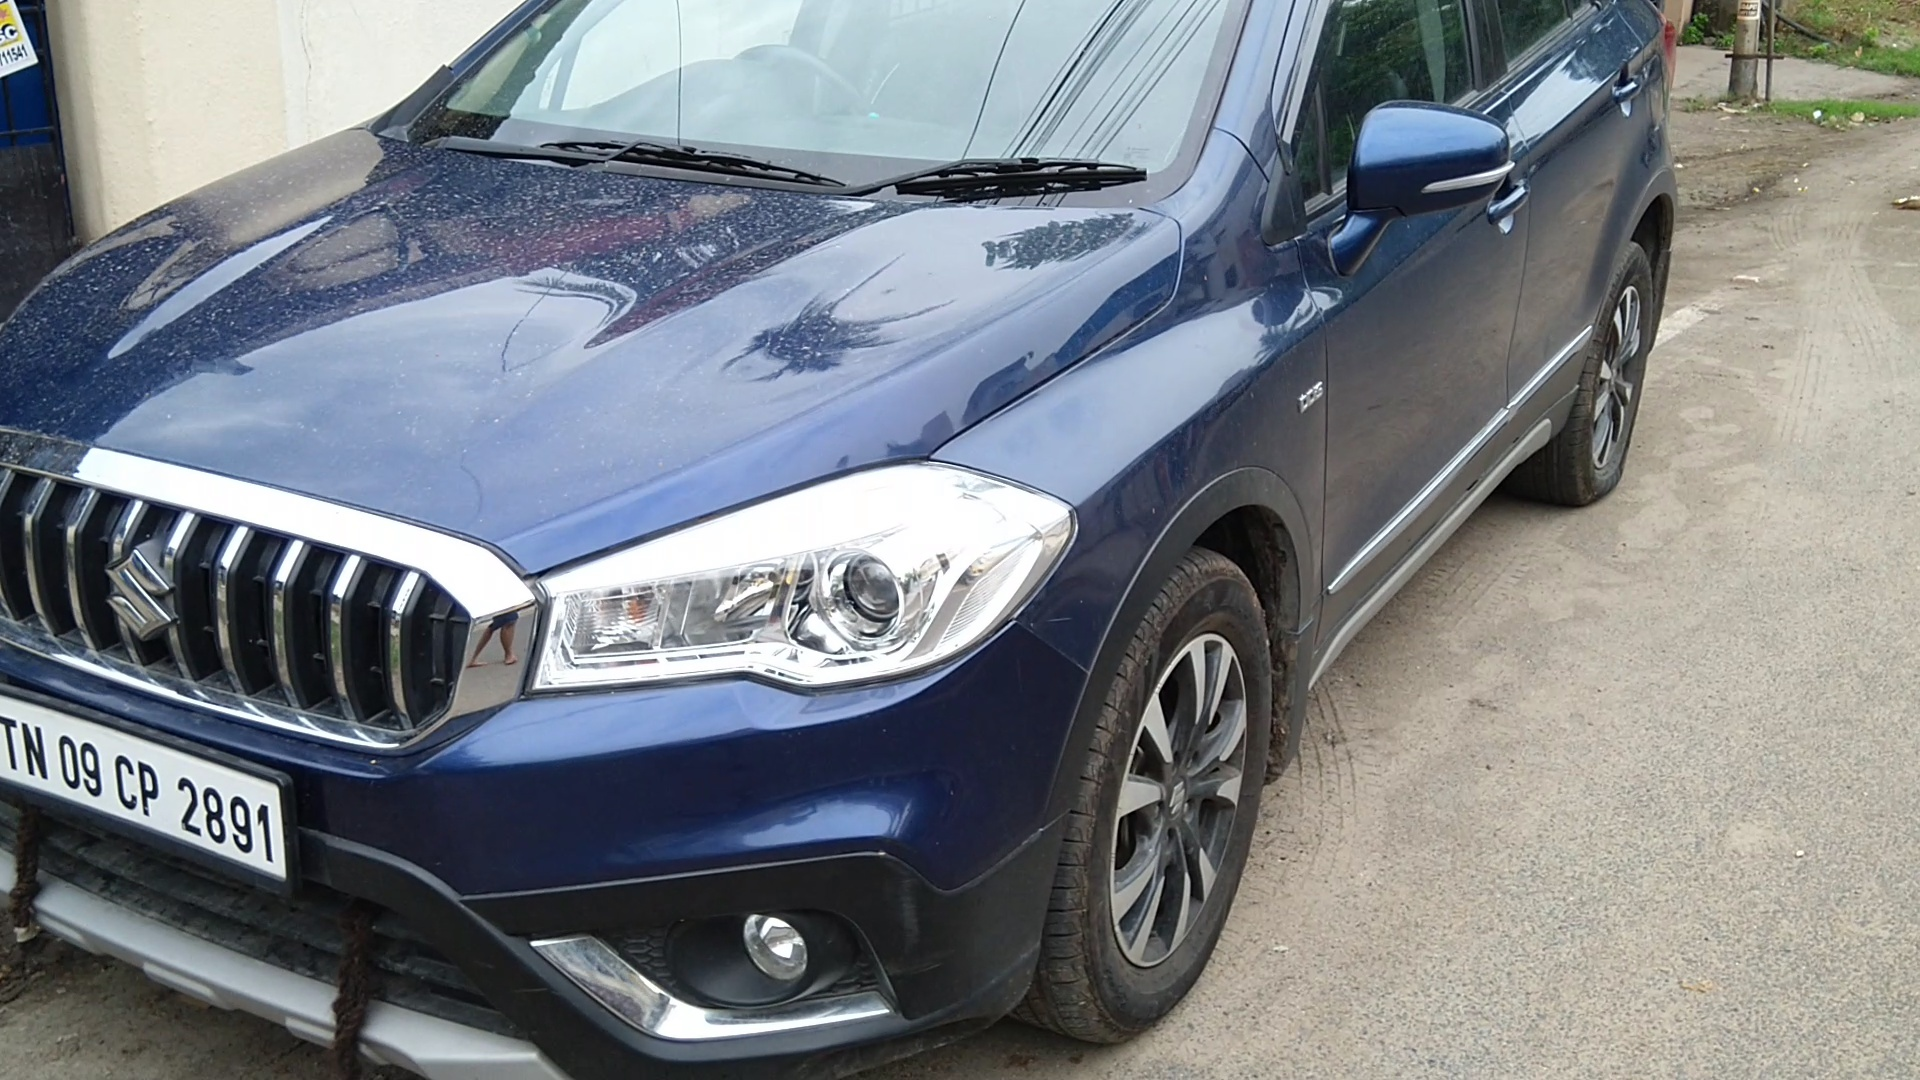alloy_wheel: (1069, 549, 1273, 1015), (1571, 243, 1654, 493)
front_grill: (5, 405, 514, 787)
headlamp: (524, 413, 1076, 719)
ovr_mirror: (1344, 96, 1520, 237)
